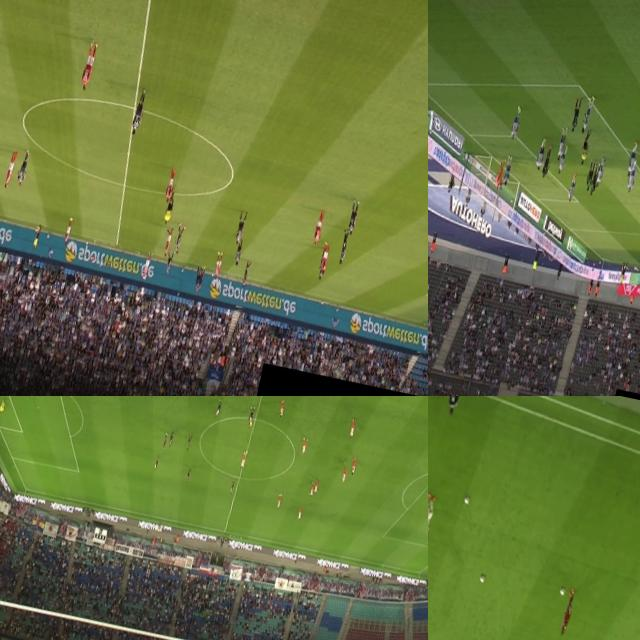ball: (478, 575, 486, 585), (558, 586, 566, 596), (140, 274, 146, 285), (463, 497, 469, 505), (245, 448, 249, 454)
player: (76, 40, 100, 94), (130, 86, 150, 138), (558, 590, 577, 636), (14, 150, 32, 192), (335, 223, 351, 266), (2, 152, 20, 190), (508, 102, 524, 143), (345, 199, 362, 237), (579, 94, 594, 136), (310, 210, 326, 248), (162, 170, 178, 205), (568, 97, 582, 135), (626, 141, 640, 178), (60, 216, 76, 248), (318, 241, 333, 275), (170, 225, 186, 256), (428, 494, 438, 542), (234, 209, 248, 243), (625, 160, 639, 194), (316, 246, 329, 282), (540, 142, 553, 178), (492, 160, 507, 190), (162, 228, 176, 260), (533, 139, 547, 171), (556, 127, 568, 162), (588, 164, 600, 199), (501, 156, 513, 188), (566, 173, 578, 204), (594, 157, 606, 188), (233, 236, 245, 266), (239, 261, 252, 288), (212, 252, 224, 281), (162, 250, 175, 276), (585, 164, 595, 192), (348, 416, 358, 440), (299, 437, 309, 456), (274, 492, 284, 511), (184, 432, 193, 452), (214, 398, 222, 419), (248, 404, 255, 426), (350, 456, 358, 475), (239, 450, 247, 468), (168, 428, 175, 448), (278, 400, 286, 417), (152, 456, 160, 472), (340, 466, 348, 482), (312, 479, 320, 494), (183, 468, 190, 484), (228, 482, 236, 496), (0, 399, 7, 414), (162, 432, 167, 450), (308, 482, 314, 497), (297, 507, 302, 521)
